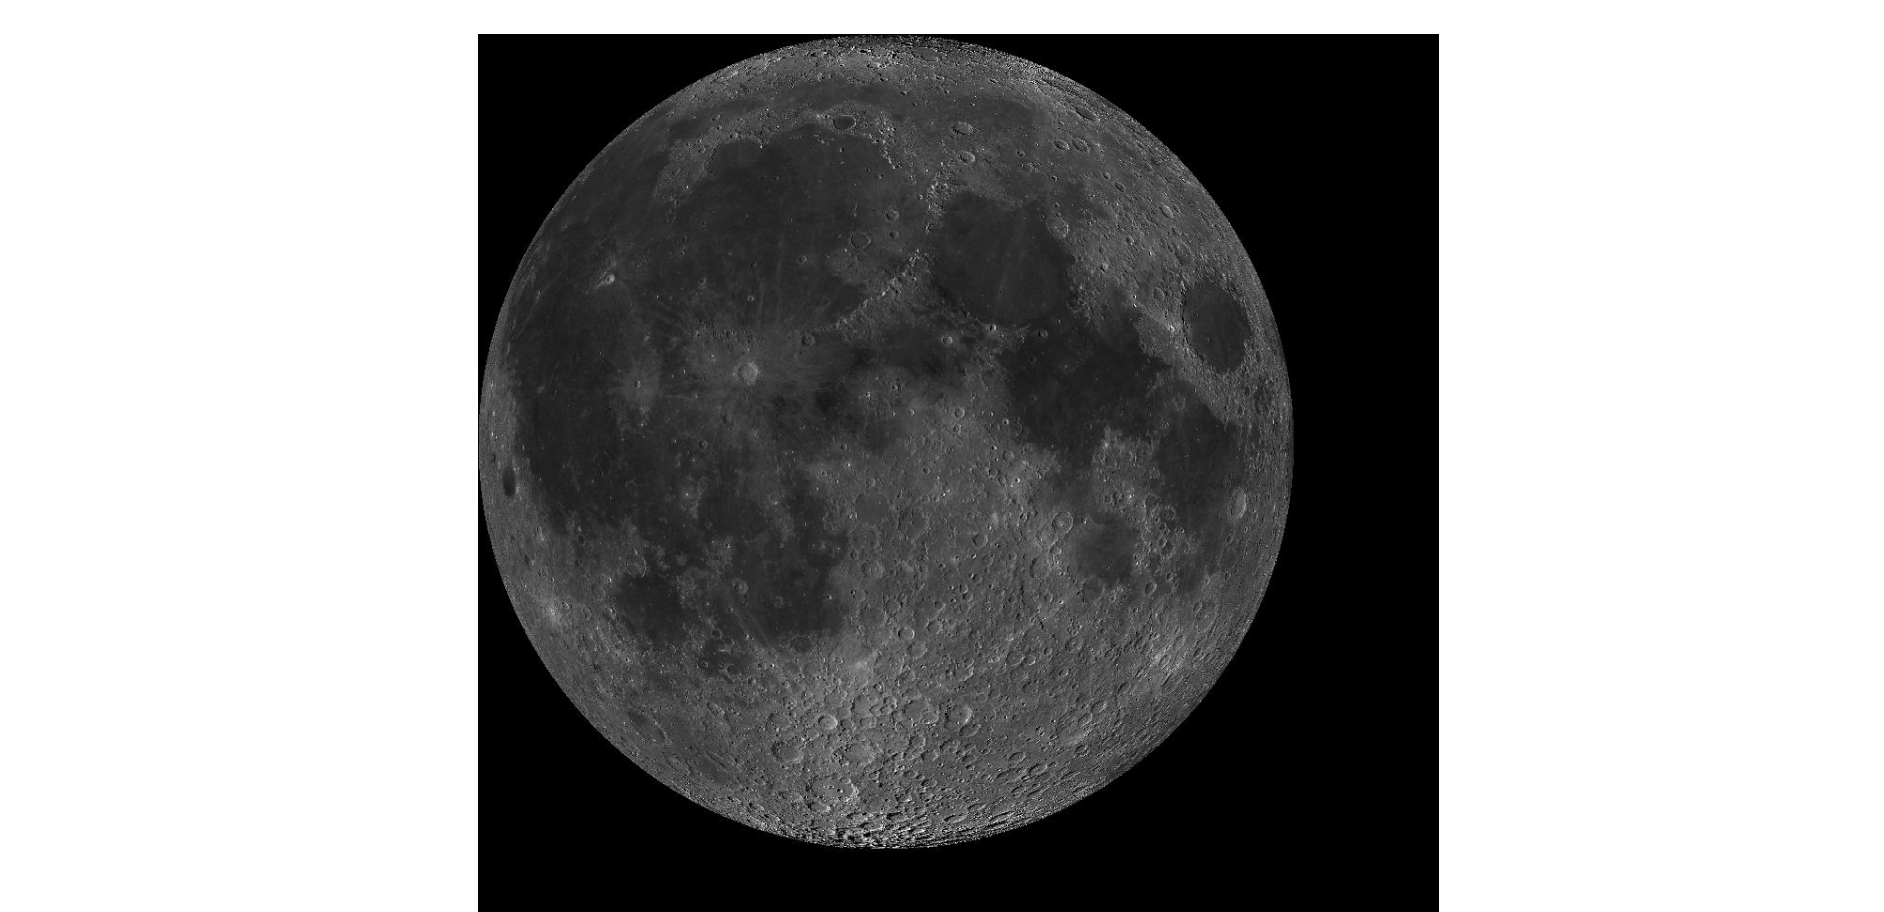crater: (699, 314, 795, 415), (606, 348, 682, 428), (620, 702, 686, 746), (813, 96, 869, 147), (797, 689, 853, 737), (592, 255, 642, 302), (892, 499, 938, 543), (929, 105, 983, 143), (755, 729, 812, 763), (1059, 93, 1105, 132), (501, 454, 536, 503), (1184, 589, 1224, 630), (1227, 481, 1260, 530), (1042, 207, 1080, 248), (839, 225, 877, 262), (755, 584, 792, 622), (1147, 195, 1190, 226), (1047, 506, 1086, 535), (982, 312, 1008, 342), (1134, 574, 1161, 603)
